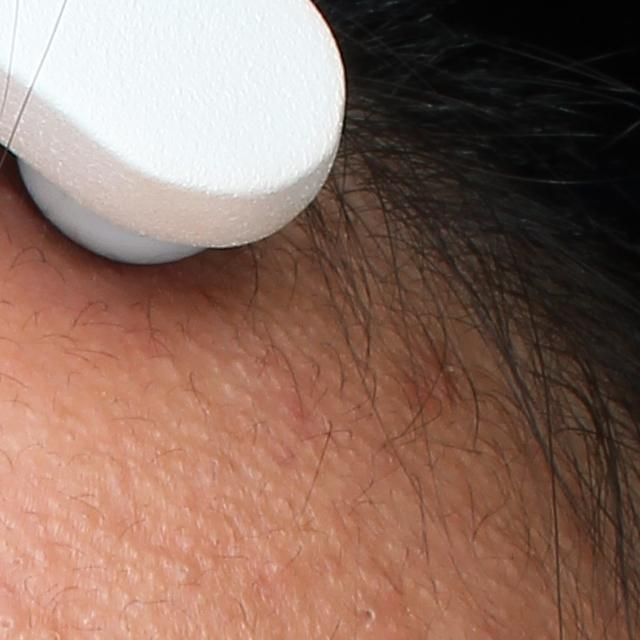comedo: (174, 558, 197, 582), (271, 560, 285, 580)
